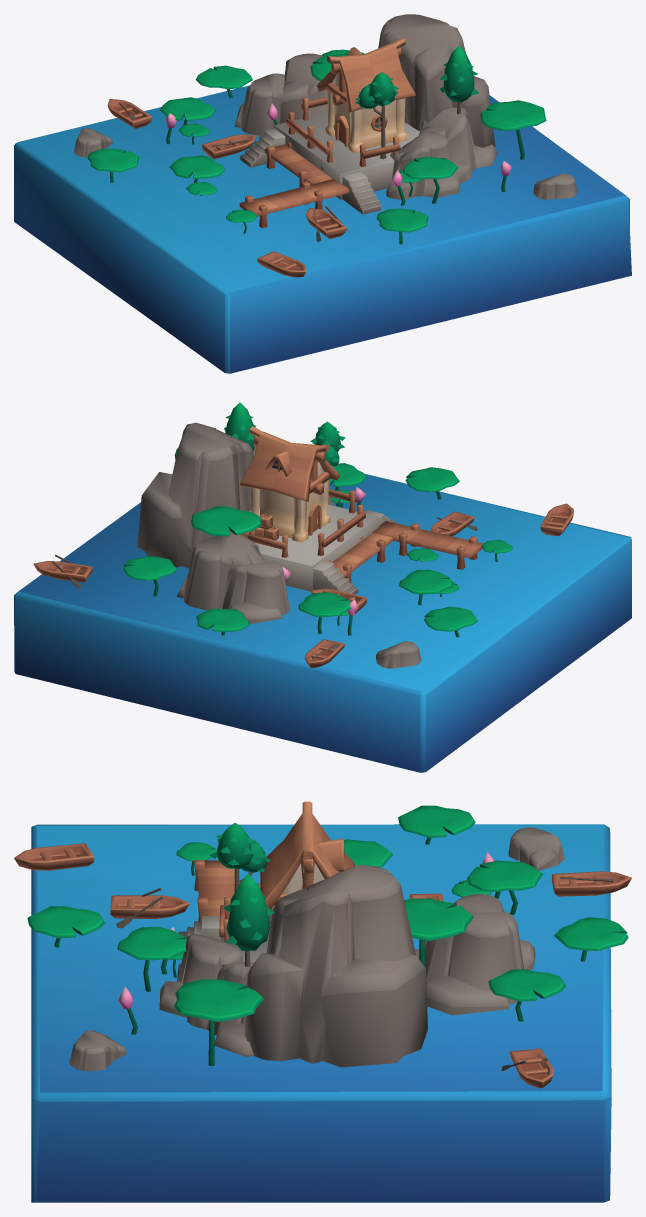
3 views of the same model, one above another, from view 1: azimuth 30°, elevation 25°; view 2: azimuth 150°, elevation 25°; view 3: azimuth 270°, elevation 25° (orthographic). The views are drawn at different scales.
Parts seen in each view (by area): view 1: Beach__6_, Mountain__5_, House, Mini_babor__2_, Mountain__2_, Mountain, Mountain__1_, Mountain__3_, wood_birge__4_, lotus__7_, Low_poly_Tree__26_, lotus__13_ (+15 smaller); view 2: Beach__6_, Mountain__5_, House, Mountain__1_, Mini_babor__2_, Mountain__3_, wood_birge__4_, lotus__8_, wood_birge__5_, lotus__13_, lotus__11_, lotus__9_ (+12 smaller); view 3: Beach__6_, Mountain__5_, Mountain__1_, House, lotus__7_, Mountain__2_, Low_poly_Tree__26_, lotus__8_, lotus__11_, lotus__6_, lotus__9_, Low_poly_Tree__28_ (+15 smaller).
Part boxes in pixels (bbox=[...]): Beach__6_: bbox=[14, 85, 631, 373]; Mountain__5_: bbox=[378, 14, 495, 147]; House: bbox=[316, 37, 415, 153]; Mini_babor__2_: bbox=[274, 112, 419, 199]; Mountain__2_: bbox=[386, 132, 460, 199]; Mountain: bbox=[419, 107, 497, 182]; Mountain__1_: bbox=[280, 53, 327, 123]; Mountain__3_: bbox=[235, 73, 284, 135]; wood_birge__4_: bbox=[239, 178, 349, 228]; lotus__7_: bbox=[480, 100, 546, 159]; Low_poly_Tree__26_: bbox=[440, 46, 479, 114]; lotus__13_: bbox=[169, 155, 225, 195]; Beach__6_: bbox=[14, 473, 631, 772]; Mountain__5_: bbox=[137, 422, 253, 568]; House: bbox=[239, 426, 339, 542]; Mountain__1_: bbox=[177, 533, 264, 610]; Mini_babor__2_: bbox=[249, 504, 379, 591]; Mountain__3_: bbox=[222, 561, 289, 624]; wood_birge__4_: bbox=[372, 521, 483, 569]; lotus__8_: bbox=[191, 506, 261, 536]; wood_birge__5_: bbox=[327, 532, 393, 582]; lotus__13_: bbox=[399, 569, 459, 605]; lotus__11_: bbox=[298, 592, 351, 633]; lotus__9_: bbox=[123, 556, 177, 596]; Beach__6_: bbox=[31, 824, 611, 1202]; Mountain__5_: bbox=[244, 864, 427, 1067]; Mountain__1_: bbox=[414, 911, 523, 1015]; House: bbox=[260, 801, 354, 932]; lotus__7_: bbox=[174, 979, 264, 1066]; Mountain__2_: bbox=[159, 933, 243, 1017]; Low_poly_Tree__26_: bbox=[223, 873, 274, 966]; lotus__8_: bbox=[404, 898, 473, 966]; lotus__11_: bbox=[451, 860, 542, 914]; lotus__6_: bbox=[117, 926, 186, 991]; lotus__9_: bbox=[488, 969, 565, 1021]; Low_poly_Tree__28_: bbox=[209, 823, 270, 892].
Bounding box in the file's own units: 4947 × 2240 × 4704.
1 material, 1 textured.
